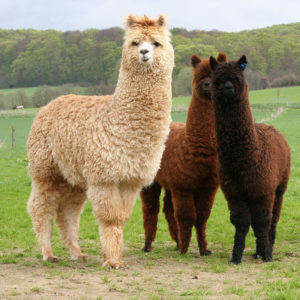alpaca: (25, 14, 172, 269), (140, 51, 228, 256), (207, 54, 291, 263)
